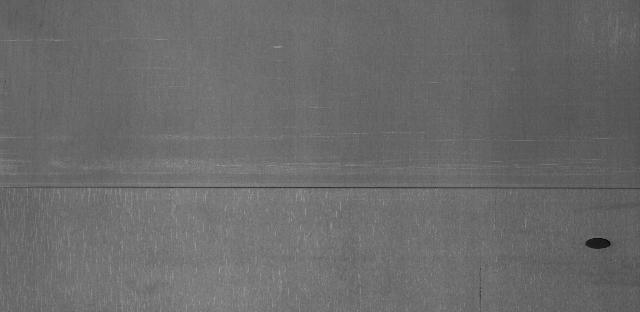punching_hole: (579, 235, 614, 253)
welding_line: (3, 181, 640, 201)
